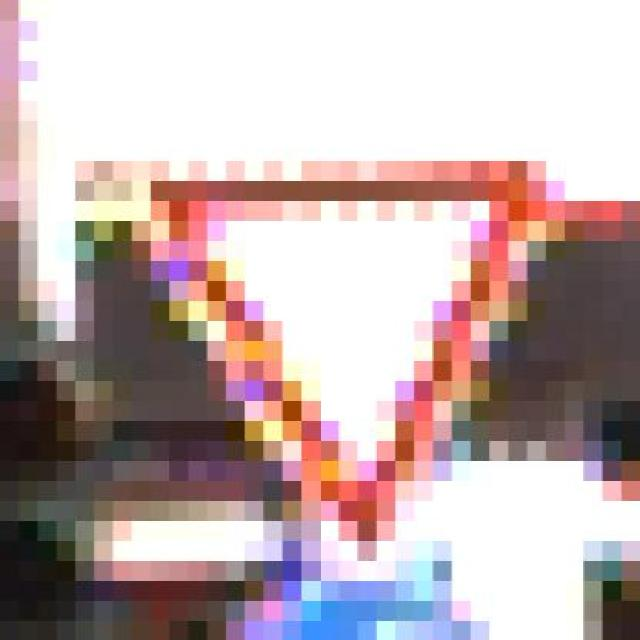Give Way: (75, 120, 583, 580)
